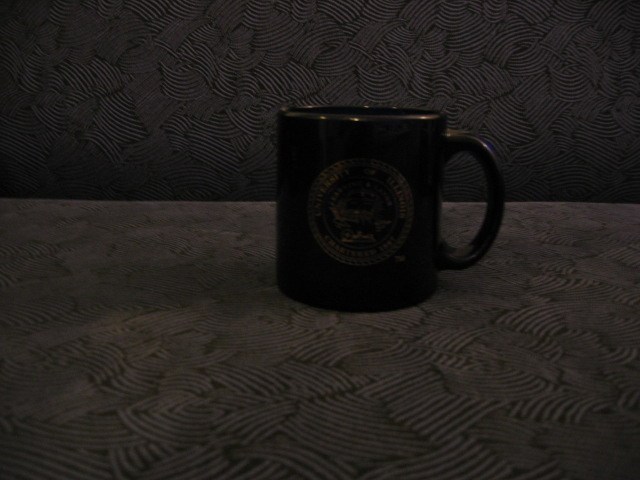mug: (279, 101, 507, 312)
